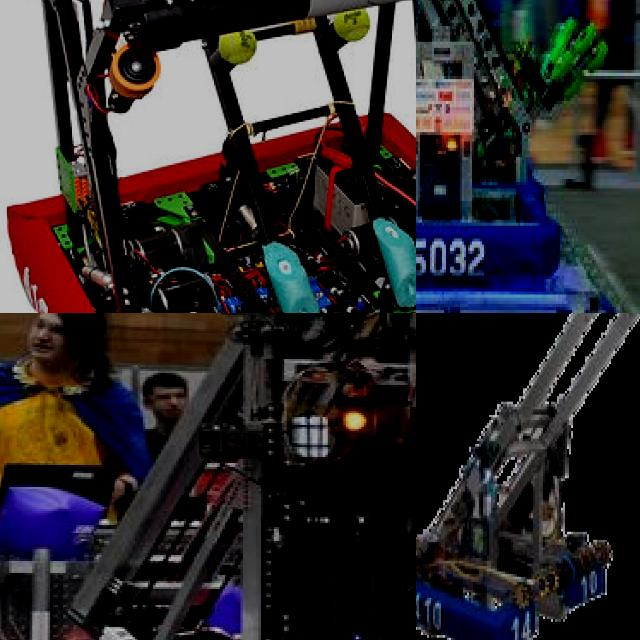FRC-Robots: (0, 313, 416, 640), (0, 0, 416, 313), (416, 313, 640, 640), (416, 0, 640, 313)
